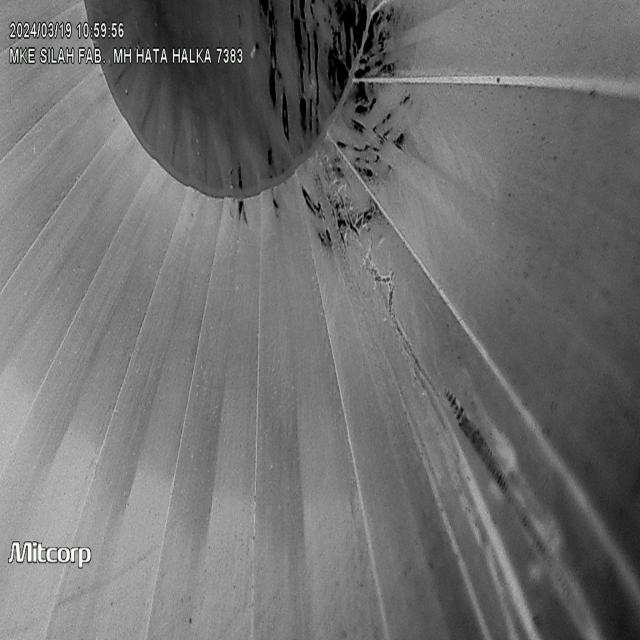hata_9.3: (302, 148, 391, 248)
